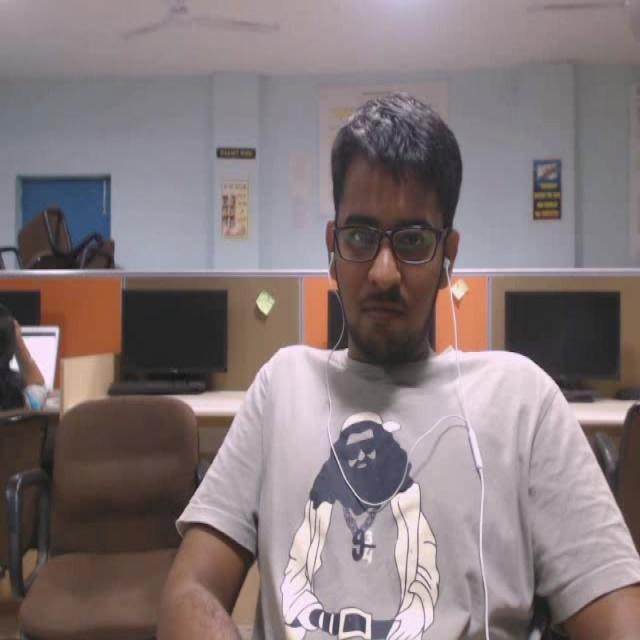Engaged: (306, 90, 482, 378)
